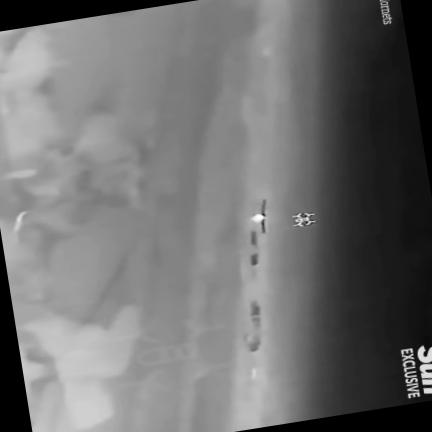Shahed: (251, 199, 266, 233)
